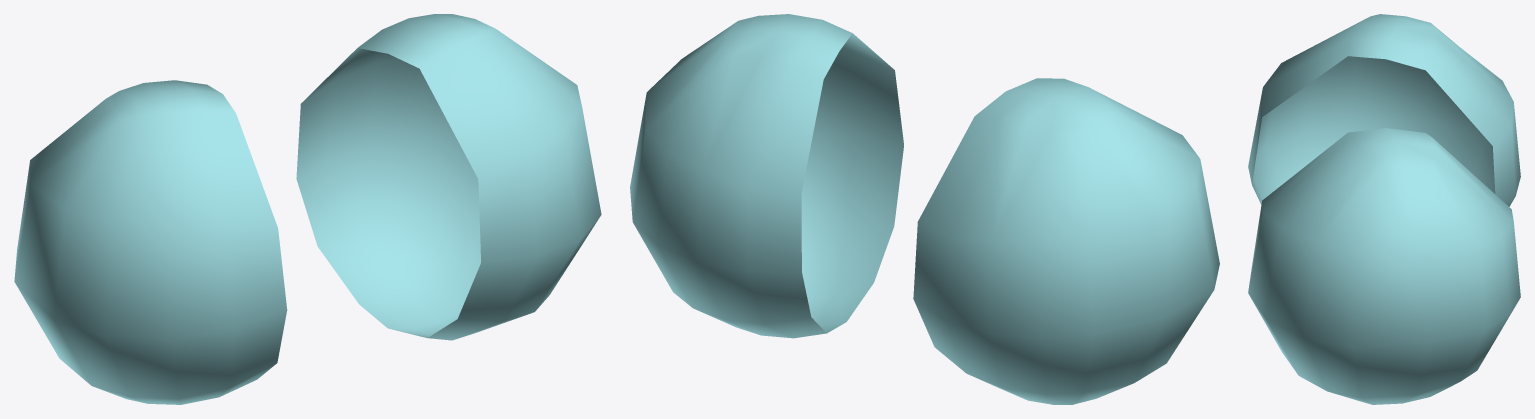
File: Cherry_Exported_Eyes.fbx
The picture shows the model from 3 angles, left to right: view 1: azimuth 30°, elevation 25°; view 2: azimuth 150°, elevation 25°; view 3: azimuth 270°, elevation 25°; orthographic projection. The views are drawn at different scales.
Visible parts, largest first — view 1: Ch.Eye_low; view 2: Ch.Eye_low; view 3: Ch.Eye_low.
Part boxes in pixels (bbox=[...]): Ch.Eye_low: bbox=[14, 14, 601, 404]; Ch.Eye_low: bbox=[630, 14, 1219, 404]; Ch.Eye_low: bbox=[1248, 14, 1520, 404].
Bounding box in the file's own units: 0.2527 × 0.1312 × 0.1292.
